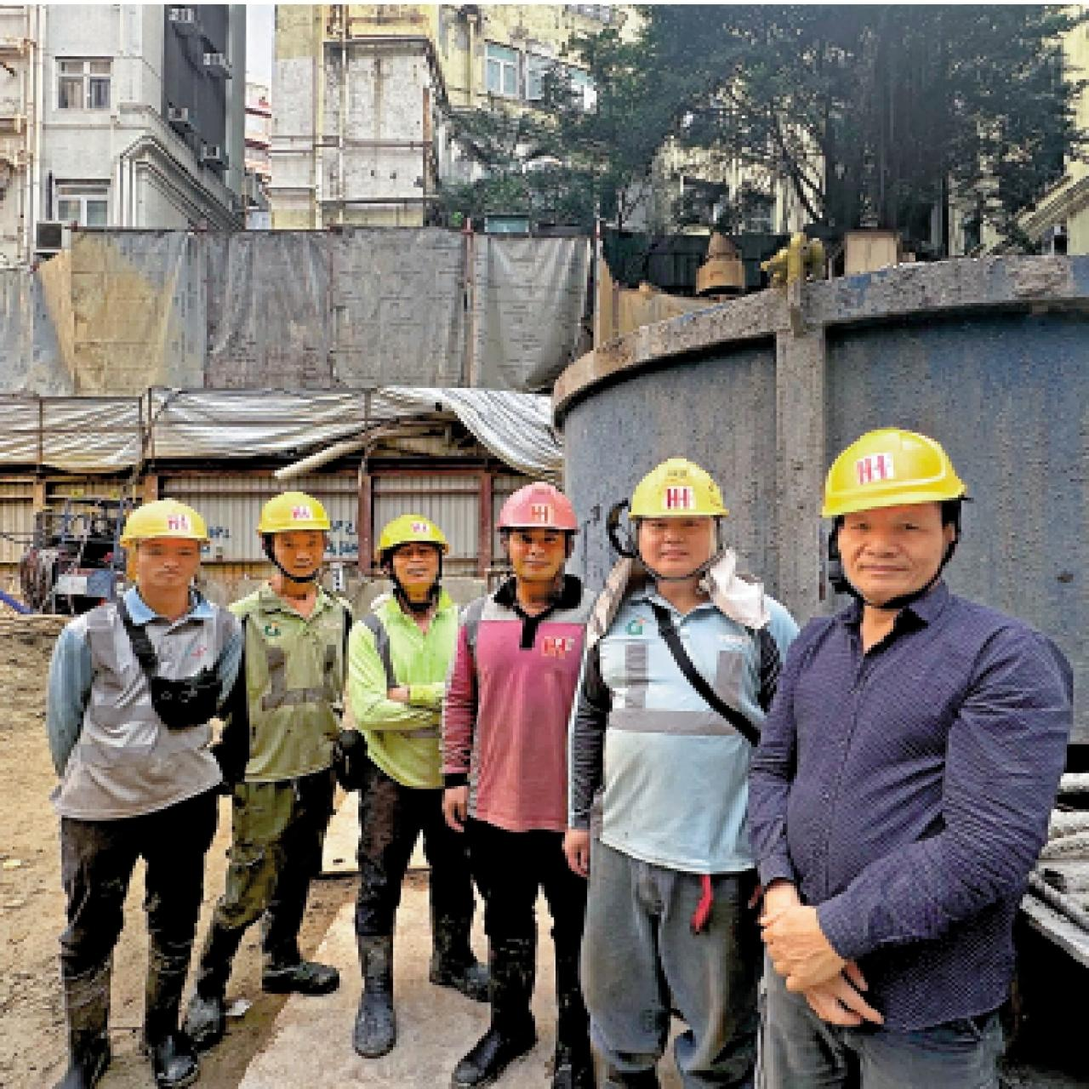NO_Safety_Vest: (744, 600, 1078, 999), (589, 587, 781, 874), (54, 600, 232, 830), (450, 598, 595, 827), (224, 583, 355, 785), (354, 602, 460, 794)
Person: (742, 428, 1072, 1085), (25, 482, 266, 1089), (583, 458, 797, 1089), (174, 476, 352, 1070), (440, 478, 610, 1089), (337, 510, 475, 1066)
